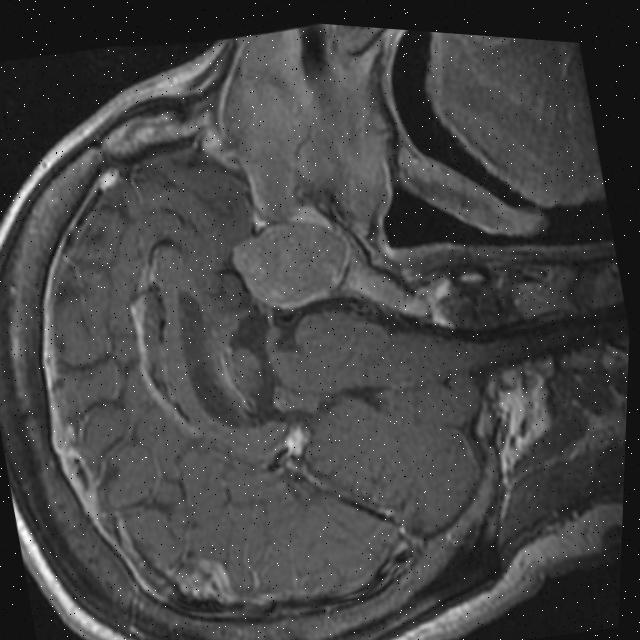Pituitary: (222, 203, 364, 322)
